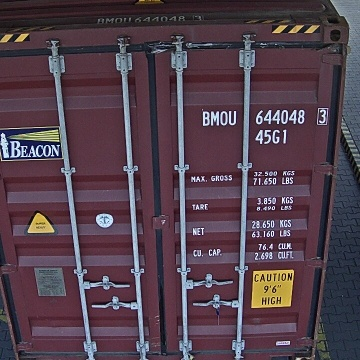serial_id: (203, 108, 328, 124)
